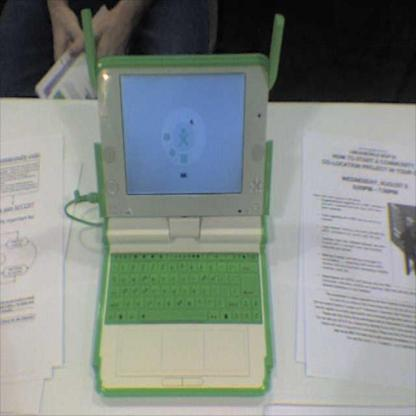board: (80, 7, 285, 397)
